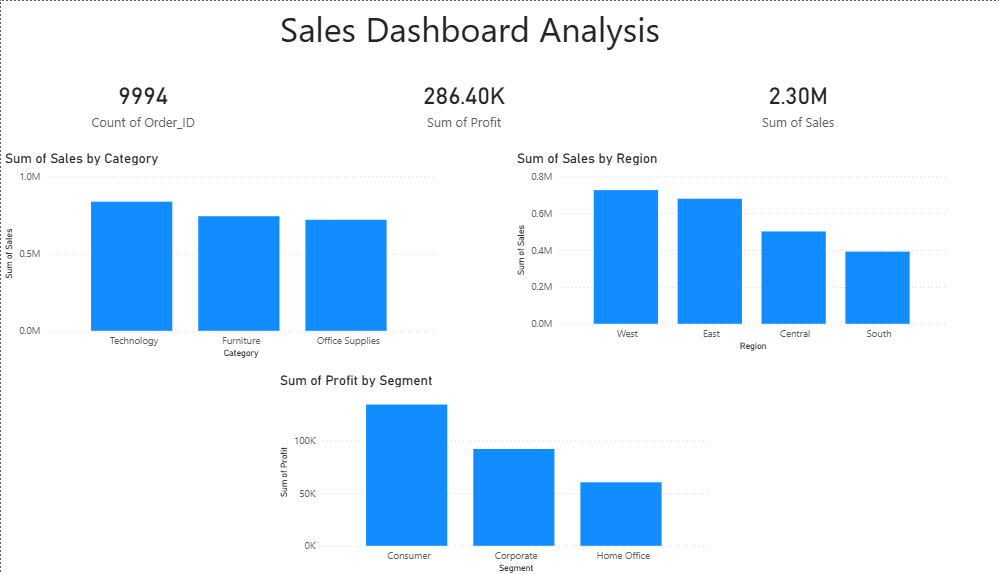

What the dashboard file says about the page in this screenshot:
{"tool":"powerbi","page":{"name":"Page 1","canvas":[1280,720],"ordinal":0},"visuals":[{"type":"card","fields":{"Values":["Sum(cleaned_data xlsx.Sales)"]},"box":[850,85,292.5,85],"z":0},{"type":"card","fields":{"Values":["Sum(cleaned_data xlsx.Profit)"]},"box":[432.5,85,292.5,85],"z":1},{"type":"card","fields":{"Values":["CountNonNull(cleaned_data xlsx.Order_ID)"]},"box":[41.2,85,272.5,85],"z":2},{"type":"columnChart","fields":{"Category":["cleaned_data xlsx.Category"],"Y":["Sum(cleaned_data xlsx.Sales)"]},"box":[0,186.2,546.2,265],"z":3},{"type":"columnChart","fields":{"Category":["cleaned_data xlsx.Region"],"Y":["Sum(cleaned_data xlsx.Sales)"]},"box":[640,186.2,546.2,256.2],"z":4},{"type":"columnChart","fields":{"Category":["cleaned_data xlsx.Segment"],"Y":["Sum(cleaned_data xlsx.Profit)"]},"box":[343.8,463.8,546.2,256.2],"z":5},{"type":"textbox","box":[343.8,0,862.5,85],"z":6}]}

Visuals, with their boxes in screenshot pixels (x1, y1, x2, y2), scaled from the page's 1280x720 canvas onto the 999x574 screenshot:
card - Sum(cleaned_data xlsx.Sales): <region>663, 68, 892, 136</region>
card - Sum(cleaned_data xlsx.Profit): <region>338, 68, 566, 136</region>
card - CountNonNull(cleaned_data xlsx.Order_ID): <region>32, 68, 245, 136</region>
columnChart - cleaned_data xlsx.Category x Sum(cleaned_data xlsx.Sales): <region>0, 148, 426, 360</region>
columnChart - cleaned_data xlsx.Region x Sum(cleaned_data xlsx.Sales): <region>500, 148, 926, 353</region>
columnChart - cleaned_data xlsx.Segment x Sum(cleaned_data xlsx.Profit): <region>268, 370, 695, 573</region>
textbox: <region>268, 0, 941, 68</region>
